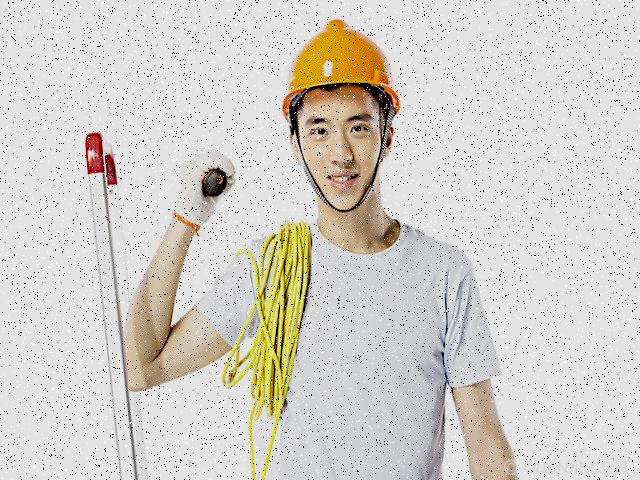Helmet: (278, 12, 404, 136)
